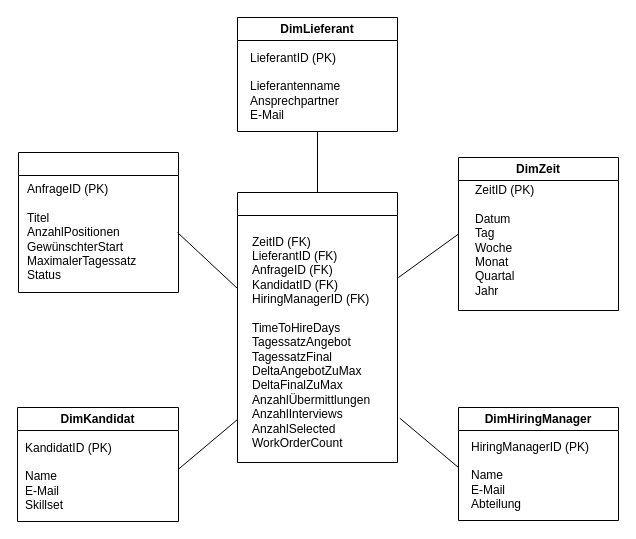
This 636x539 diagram has some shape labels left out. The shapes that lost their labels are listed below. From the top down, each one's box as (x1, y1, x2, y2) in pixels, then its label:
(18, 152, 178, 292): DimAnfrage
(236, 192, 398, 462): FactMSP
